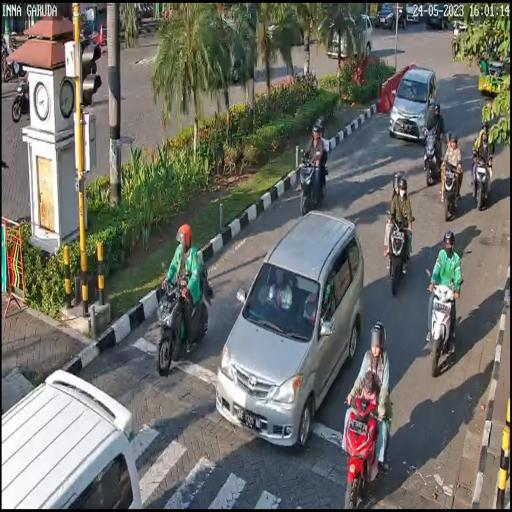mobil: (220, 206, 362, 452), (391, 61, 438, 148)
motor: (157, 260, 212, 377), (343, 382, 391, 506), (423, 264, 466, 378), (382, 209, 416, 291), (298, 145, 330, 211), (470, 148, 496, 216), (441, 157, 463, 222), (422, 131, 443, 188)
